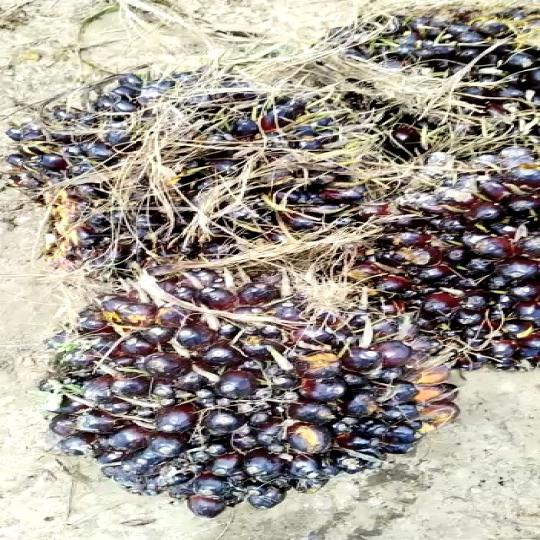mentah: (74, 264, 422, 528), (0, 70, 348, 280), (376, 102, 540, 404)
